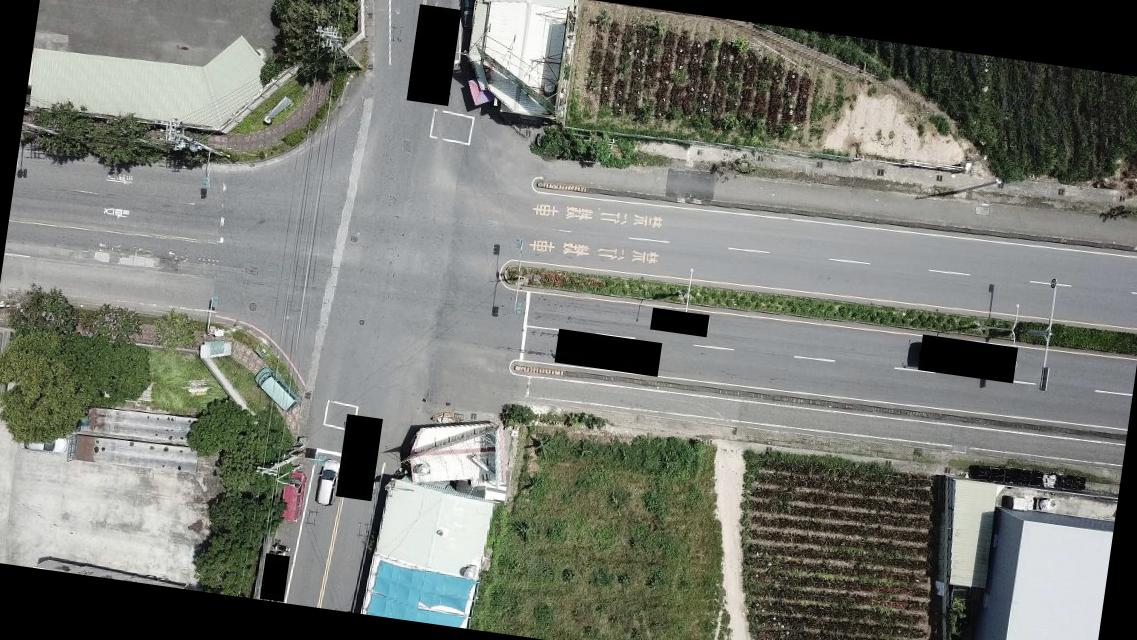vehicle: (250, 368, 300, 414), (276, 469, 308, 526), (14, 428, 70, 458), (314, 457, 342, 510), (451, 0, 478, 31)
